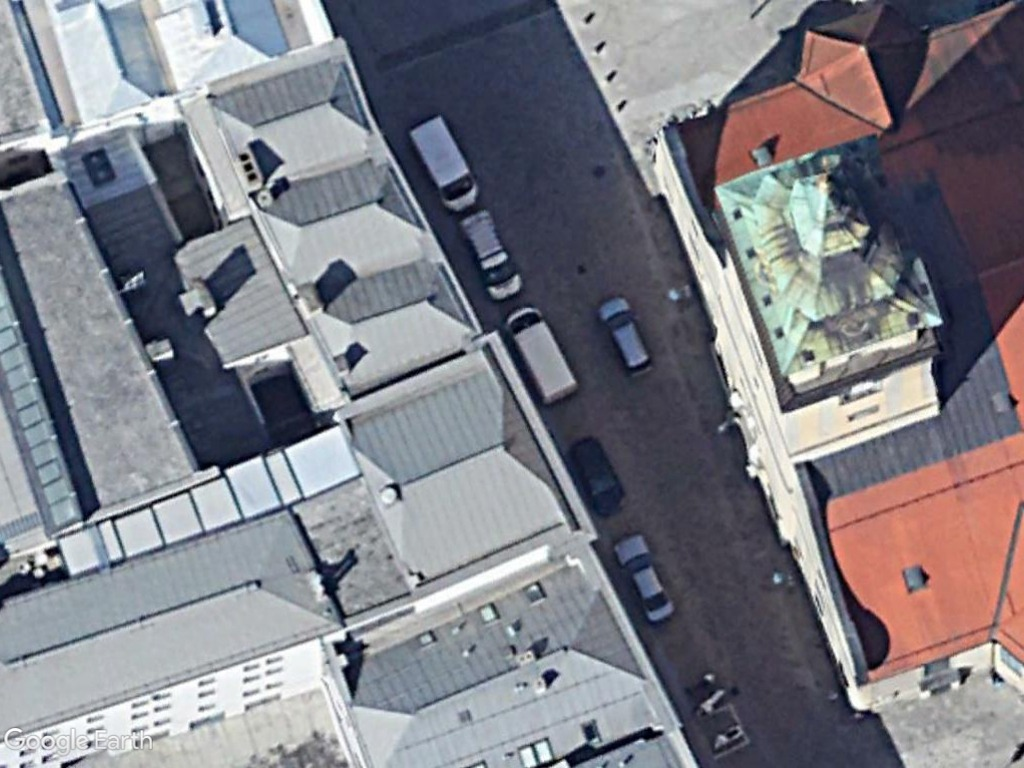car: (607, 528, 679, 633), (560, 426, 633, 524), (590, 292, 657, 382)
van: (401, 108, 480, 220), (501, 299, 582, 408), (455, 208, 525, 309)
